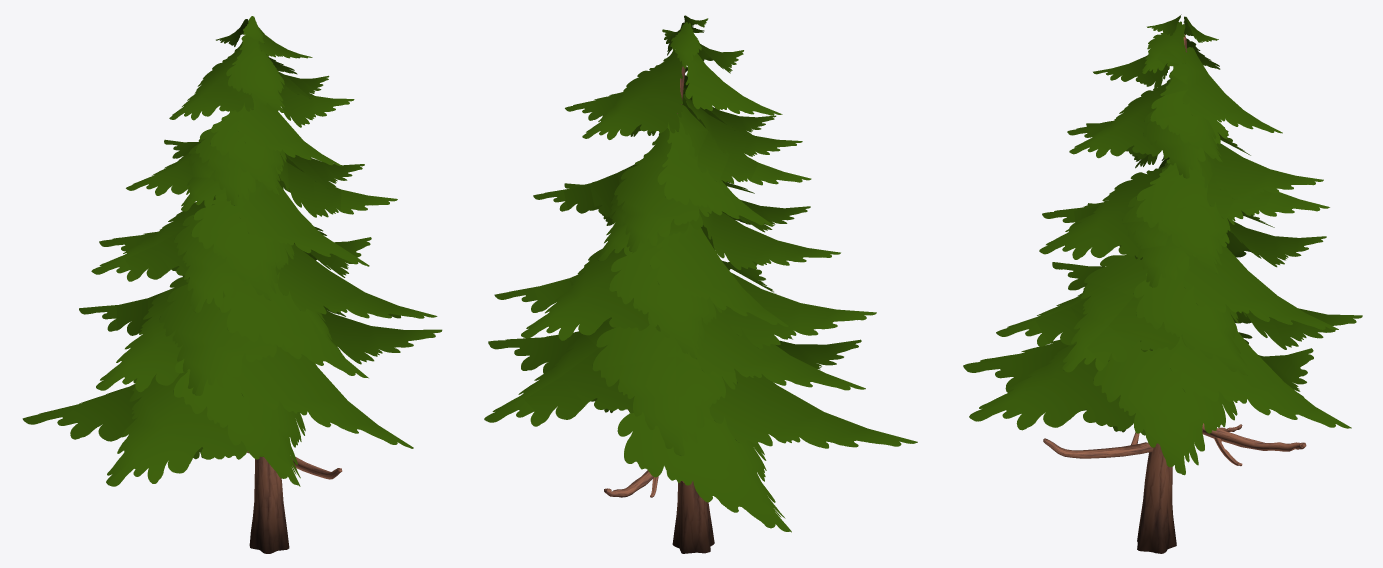
Rendered from arv_pinheiro.glb.
3 renders of one model, left to right at view 1: azimuth 30°, elevation 25°; view 2: azimuth 150°, elevation 25°; view 3: azimuth 270°, elevation 25°, orthographic. The views are drawn at different scales.
Visible parts, largest first — view 1: Pine_2; view 2: Pine_2; view 3: Pine_2.
Part boxes in pixels (left/top/right/bottom): Pine_2: left=22, top=16, right=442, bottom=553; Pine_2: left=484, top=15, right=917, bottom=553; Pine_2: left=963, top=14, right=1362, bottom=553.
Bounding box in the file's own units: 5.73 × 7.38 × 5.22.
2 materials, 2 textured.
